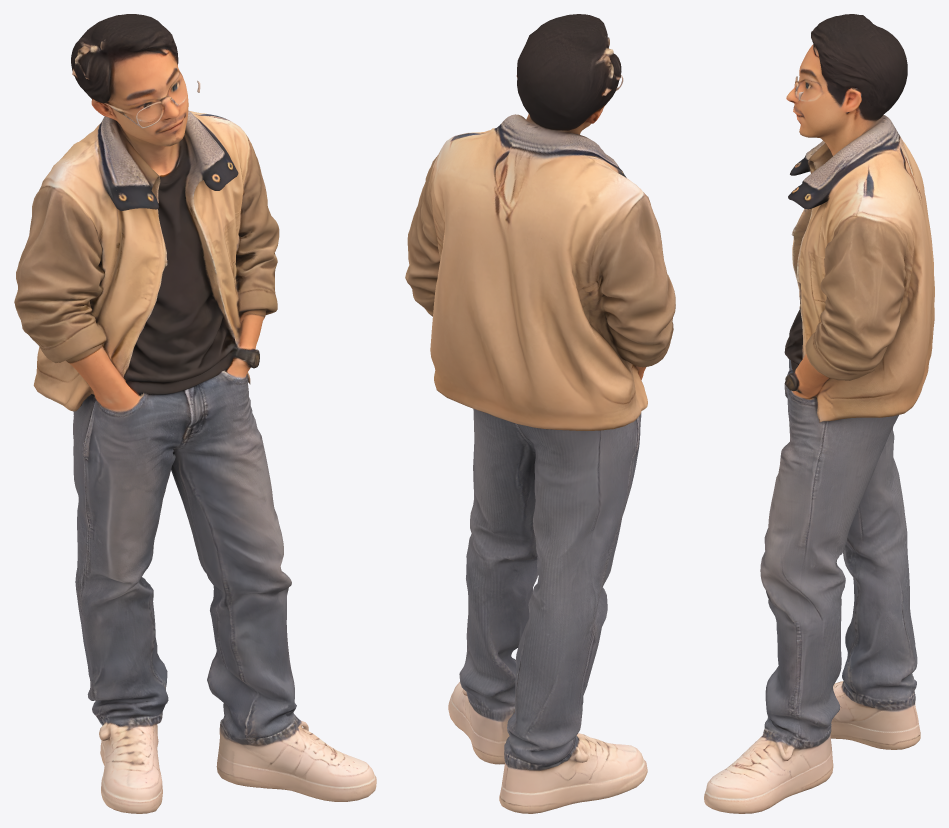
The model's file is base_basic_shaded.glb.
3 renders of one model, left to right at view 1: azimuth 30°, elevation 25°; view 2: azimuth 150°, elevation 25°; view 3: azimuth 270°, elevation 25°, orthographic. The views are drawn at different scales.
Parts seen in each view (by area): view 1: model; view 2: model; view 3: model.
Boxes of the visible parts, x1=… form: model: x1=14, y1=14, x2=376, y2=813; model: x1=405, y1=14, x2=675, y2=813; model: x1=704, y1=14, x2=934, y2=813.
Size of the model in its own units: 0.74 by 1.9 by 0.556.
Materials: 1 (1 with a texture image).
